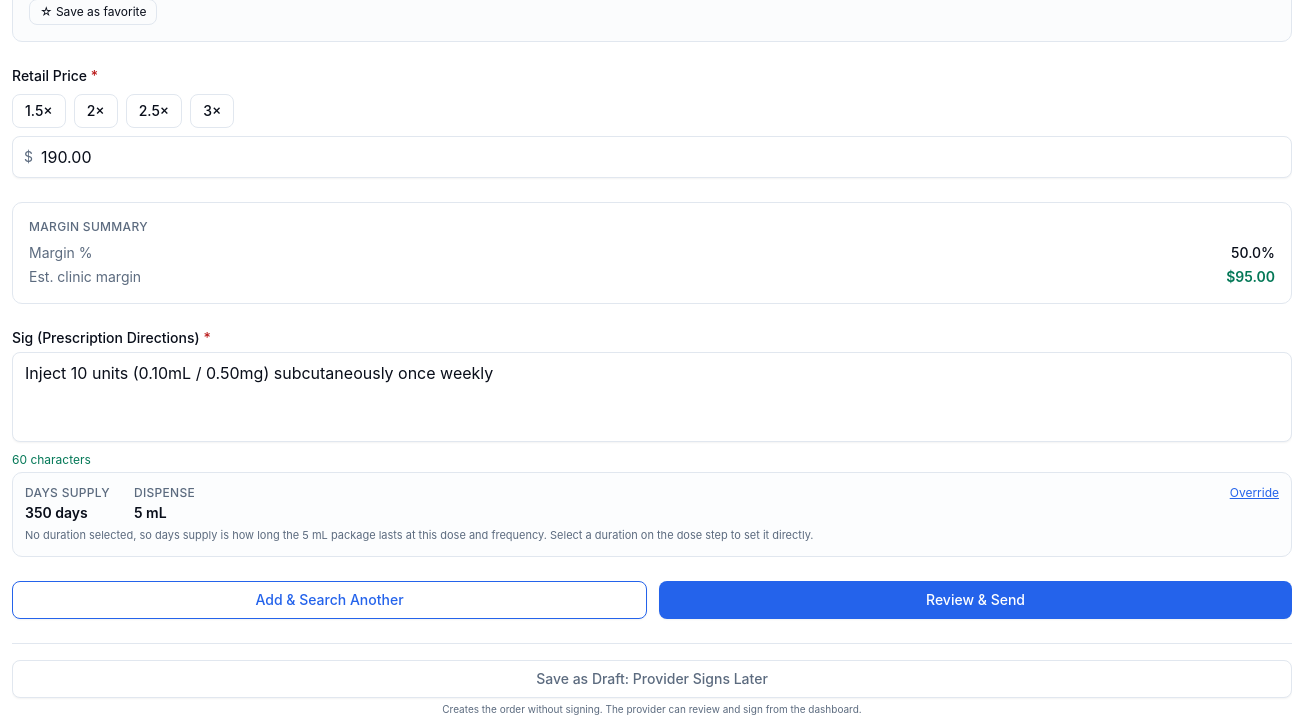
Test: MarginBuilderForm — derived days supply + dispense › blocks the single-line Save as Draft when a rule-required field has no default
The image size is (1304, 717).
(page scrolled)
Click the button "Save as Draft: Provider Signs Later" at point(652, 678), box [12, 660, 1292, 698]
(page scrolled)
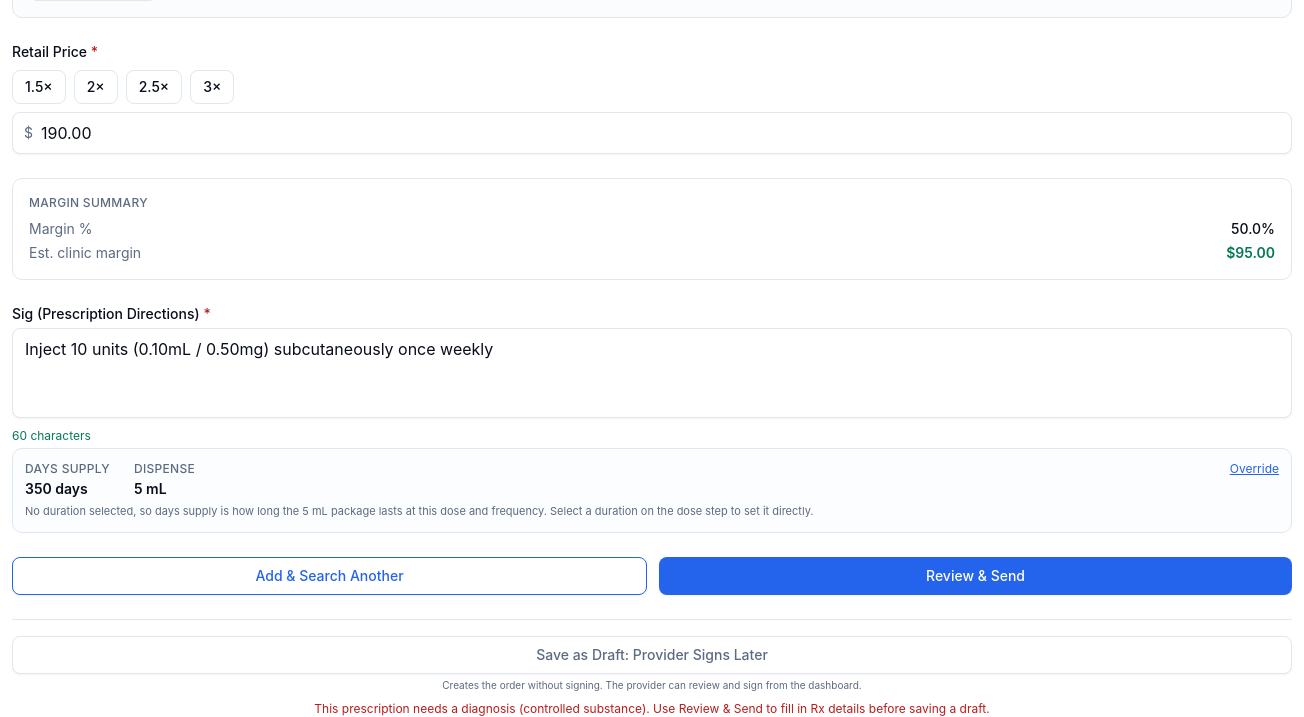
Result: the text "needs a diagnosis (controlled substance)" is shown at [314, 700, 990, 716]
